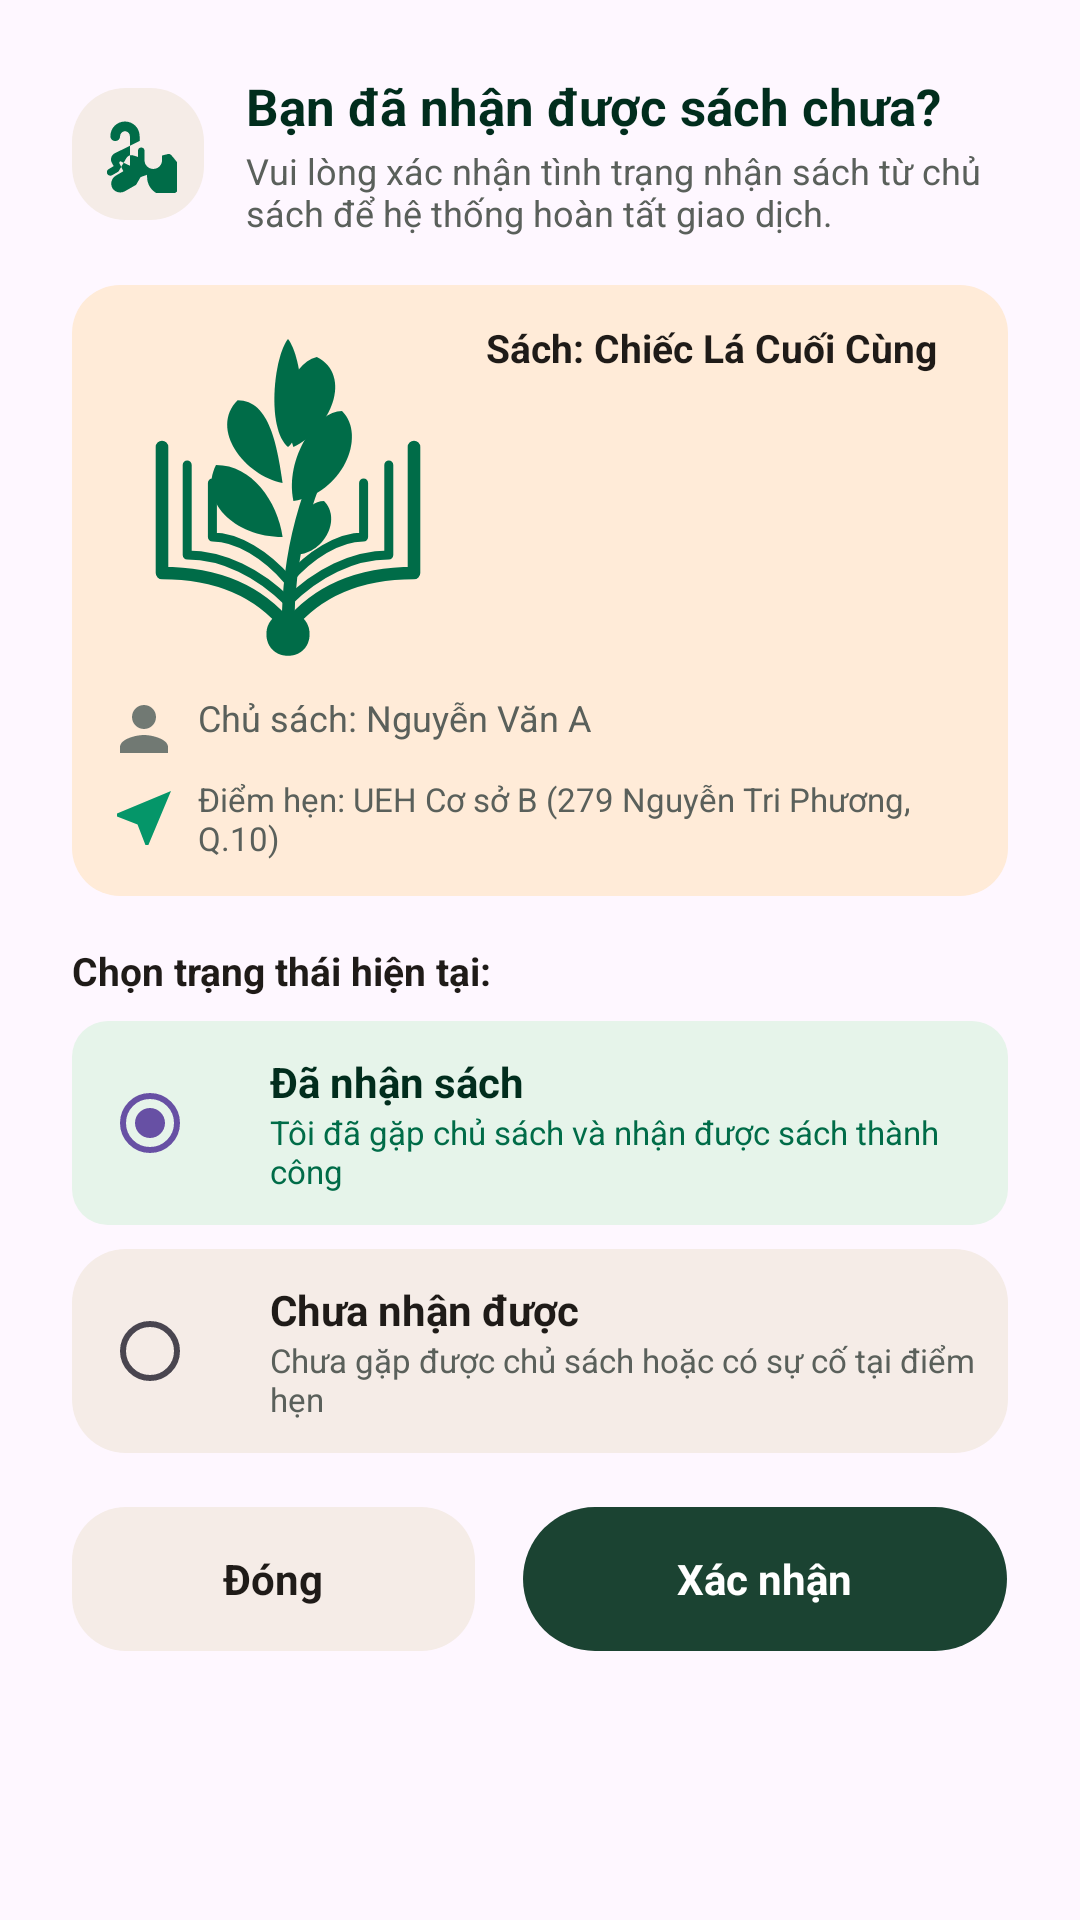

Icon bounding boxes for this 1080px×1920px phone screenshot, format box=[x1, y1, x2, y2]:
Handshake Icon: box=[107, 121, 177, 193]
